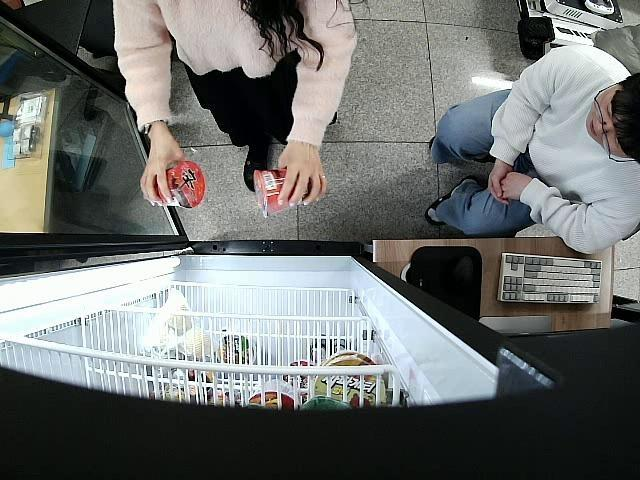02_shinRamen_S: (253, 167, 322, 218), (152, 161, 206, 208)
